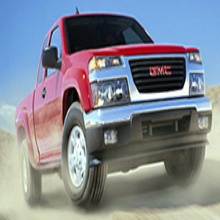no damage: (15, 12, 212, 211)
